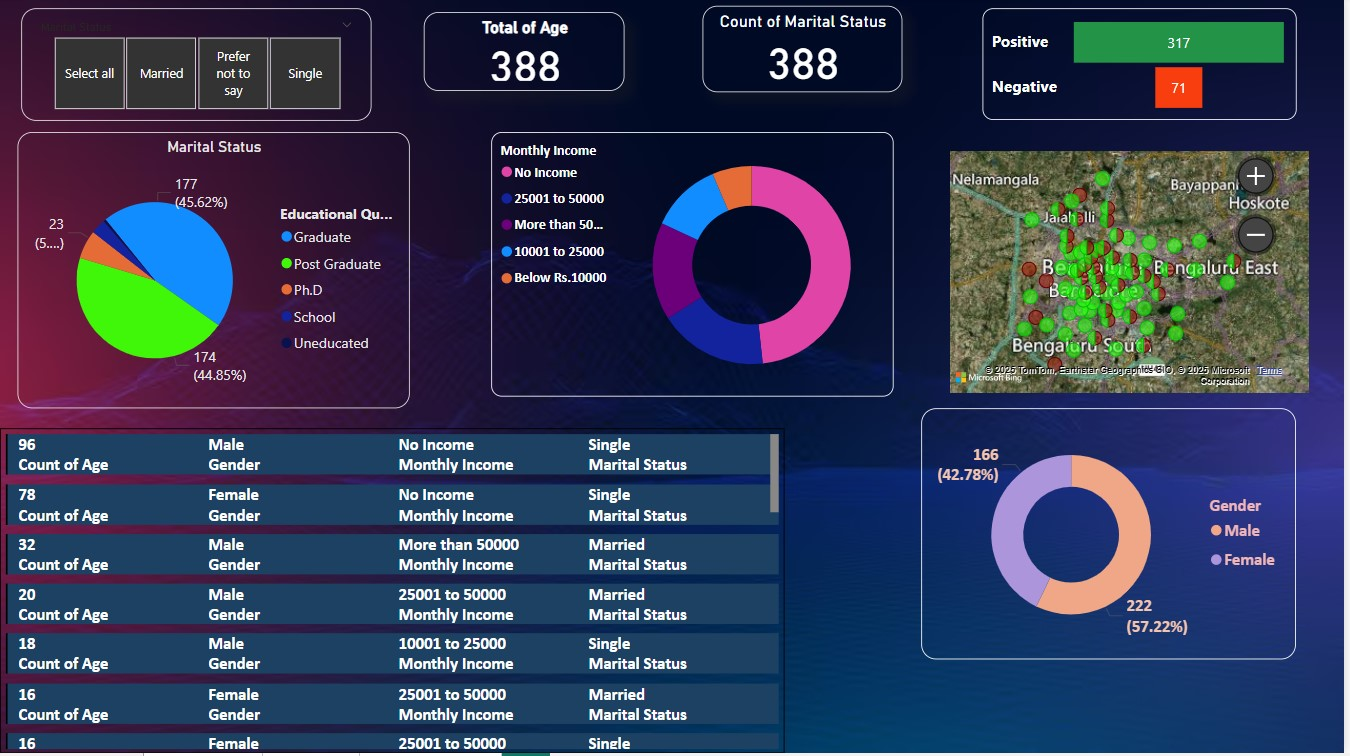

The dashboard page shown, as its layout file describes it:
{"tool":"powerbi","page":{"name":"Report","canvas":[1280,720],"ordinal":1},"visuals":[{"type":"card","title":"Total of Age","fields":{"Values":["CountNonNull(onlinefoods.Age)"]},"box":[403.2,14.4,191.5,74.9],"z":0},{"type":"card","title":"Count of Marital Status","fields":{"Values":["CountNonNull(onlinefoods.Marital Status)"]},"box":[668.9,7.8,190,82.2],"z":1000},{"type":"slicer","title":"Gender by Educational Qualifications","fields":{"Values":["onlinefoods.Marital Status"]},"box":[20.6,11,333.4,107],"z":2000},{"type":"pieChart","title":"Marital Status","fields":{"Category":["onlinefoods.Educational Qualifications"],"Y":["CountNonNull(onlinefoods.Educational Qualifications)"]},"box":[16.5,129,373.2,263.5],"z":3000},{"type":"funnel","fields":{"Category":["onlinefoods.Feedback"],"Y":["CountNonNull(onlinefoods.Feedback)"]},"box":[935.6,11.1,298.9,106.7],"z":4000},{"type":"multiRowCard","fields":{"Values":["CountNonNull(onlinefoods.Age)","onlinefoods.Gender","onlinefoods.Monthly Income","onlinefoods.Marital Status"]},"box":[0,410.4,747.4,309.6],"z":5000},{"type":"map","fields":{"Y":["onlinefoods.latitude"],"X":["onlinefoods.longitude"],"Series":["onlinefoods.Feedback"]},"box":[900,141.1,351.1,240],"z":6000},{"type":"donutChart","fields":{"Category":["onlinefoods.Gender"],"Y":["CountNonNull(onlinefoods.Age)"]},"box":[877.8,392.2,356.7,238.9],"z":7000},{"type":"donutChart","fields":{"Y":["CountNonNull(onlinefoods.Monthly Income)"],"Category":["onlinefoods.Monthly Income"]},"box":[467.8,128.9,383.3,252.2],"z":8000}]}

Visuals, with their boxes in screenshot pixels (x1, y1, x2, y2), scaled from the page's 1280x720 canvas onto the 1350x756 screenshot:
"Total of Age" card: (425, 15, 627, 94)
"Count of Marital Status" card: (705, 8, 906, 94)
"Gender by Educational Qualifications" slicer: (22, 12, 373, 124)
"Marital Status" pieChart: (17, 135, 411, 412)
funnel - onlinefoods.Feedback x CountNonNull(onlinefoods.Feedback): (987, 12, 1302, 124)
multiRowCard - CountNonNull(onlinefoods.Age) x onlinefoods.Gender: (0, 431, 788, 755)
map - onlinefoods.latitude x onlinefoods.longitude: (949, 148, 1320, 400)
donutChart - onlinefoods.Gender x CountNonNull(onlinefoods.Age): (926, 412, 1302, 663)
donutChart - CountNonNull(onlinefoods.Monthly Income) x onlinefoods.Monthly Income: (493, 135, 898, 400)
